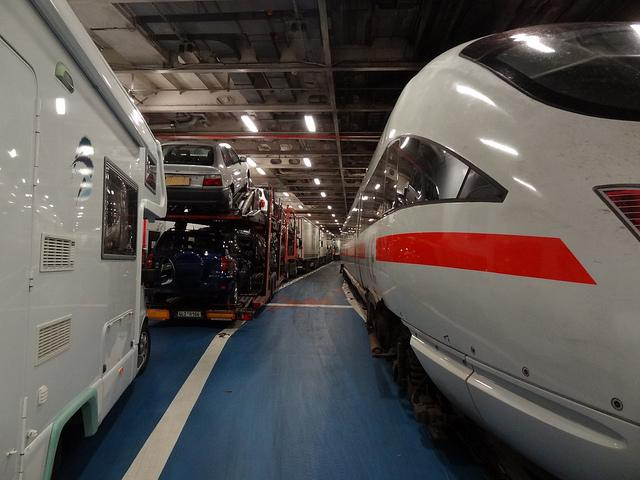Train: (336, 18, 640, 475)
